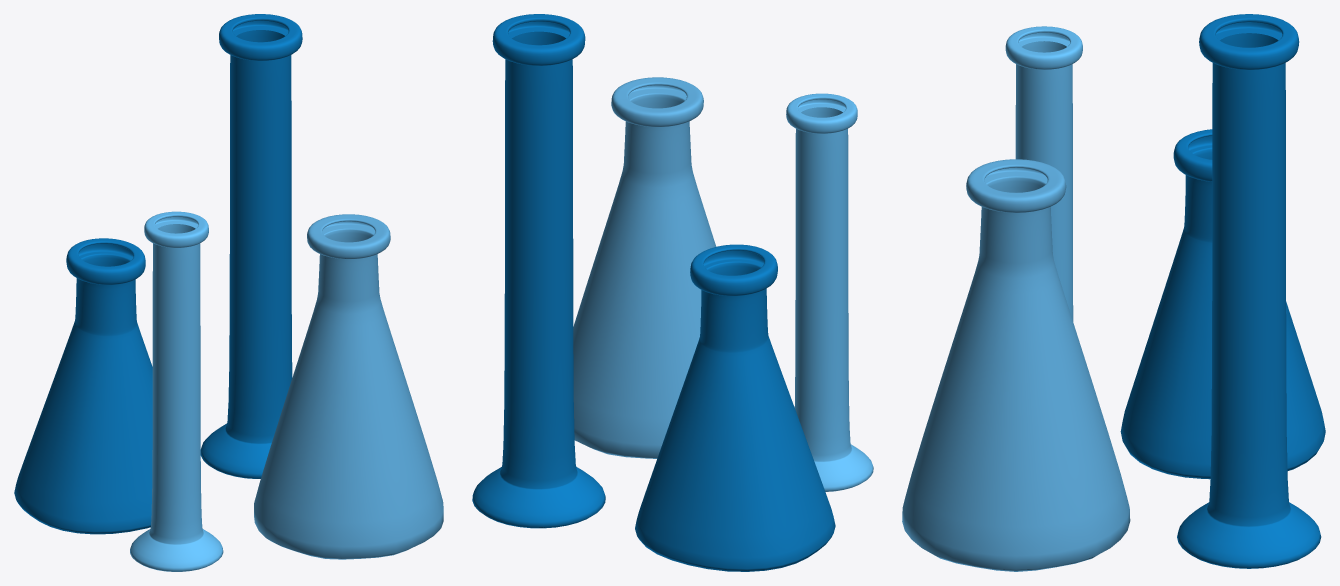
Rendered from Beaker_Group3.glb.
3 views of the same model, side by side, from view 1: azimuth 30°, elevation 25°; view 2: azimuth 150°, elevation 25°; view 3: azimuth 270°, elevation 25° (orthographic). The views are drawn at different scales.
Parts seen in each view (by area): view 1: pCylinder6, pCylinder5, pCylinder1, pCylinder4; view 2: pCylinder1, pCylinder5, pCylinder6, pCylinder4; view 3: pCylinder6, pCylinder5, pCylinder1, pCylinder4.
Part boxes in pixels (x1=…): pCylinder6: x1=254, y1=214, x2=443, y2=559; pCylinder5: x1=200, y1=14, x2=302, y2=478; pCylinder1: x1=14, y1=238, x2=152, y2=534; pCylinder4: x1=130, y1=211, x2=223, y2=571; pCylinder1: x1=635, y1=244, x2=835, y2=571; pCylinder5: x1=472, y1=14, x2=605, y2=528; pCylinder6: x1=573, y1=77, x2=716, y2=458; pCylinder4: x1=786, y1=93, x2=873, y2=491; pCylinder6: x1=902, y1=159, x2=1130, y2=571; pCylinder5: x1=1177, y1=14, x2=1321, y2=568; pCylinder1: x1=1120, y1=129, x2=1325, y2=479; pCylinder4: x1=1005, y1=26, x2=1082, y2=321.
Size of the model in its own units: 1.3 by 1.69 by 1.27.
